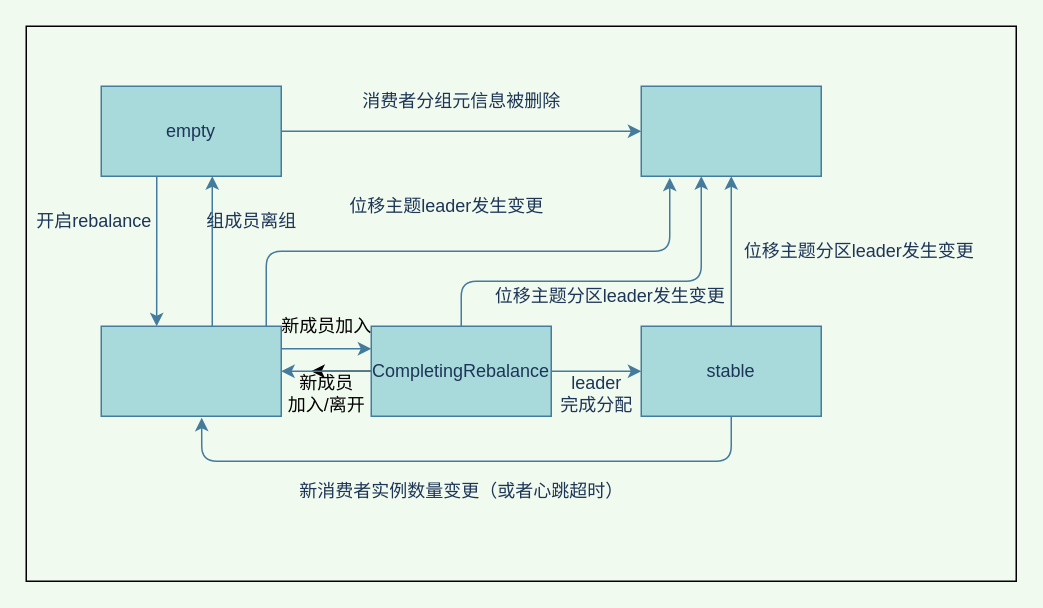
Image size: 1043x608. Some labels were removed from this diagram. The box of each missing label's shape, as (x1, y1, x2, y2) in pixels:
dead: (640, 85, 821, 176)
PreparingRebalance: (100, 325, 281, 416)
